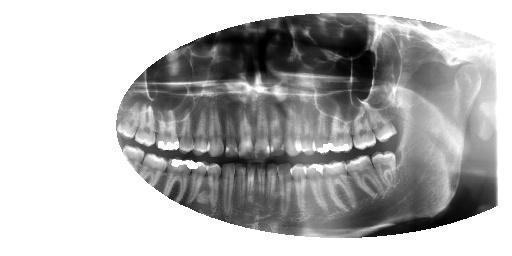Fillings: (346, 157, 387, 203), (344, 99, 379, 151), (361, 96, 398, 143), (326, 105, 355, 153), (308, 97, 332, 155), (163, 158, 194, 202), (305, 162, 330, 215), (156, 108, 180, 151)
